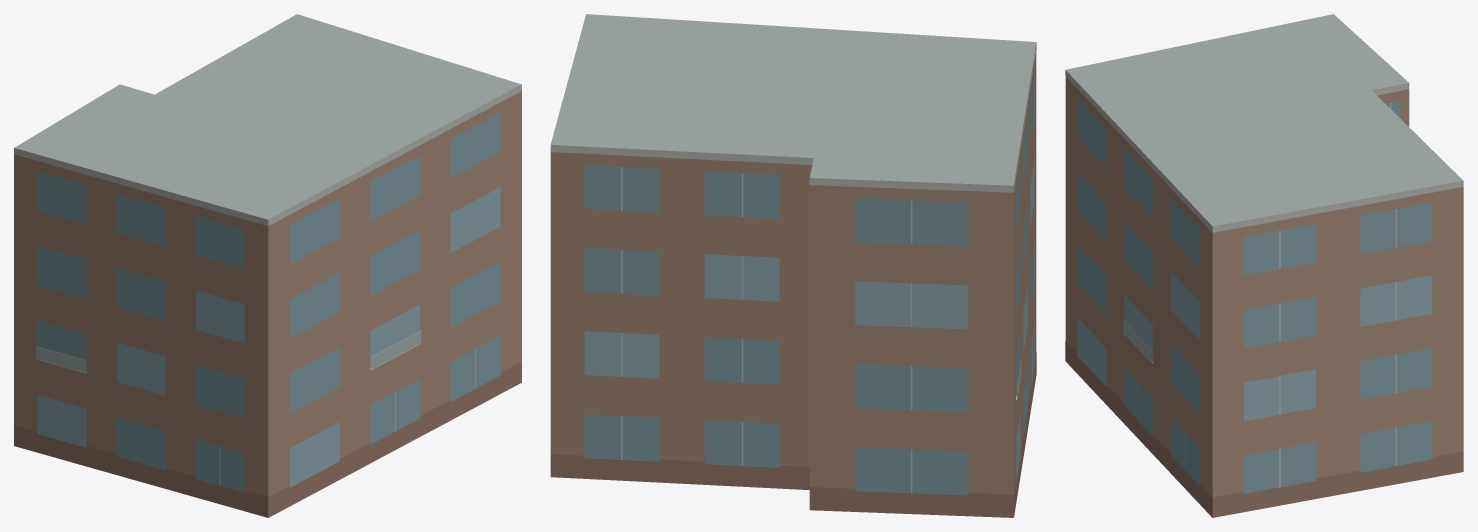
The model's file is survey-upis-32738006.glb.
3 views of the same model, side by side, from view 1: azimuth 30°, elevation 25°; view 2: azimuth 150°, elevation 25°; view 3: azimuth 270°, elevation 25° (orthographic). The views are drawn at different scales.
Parts seen in each view (by area): view 1: survey-upis-32738006.tmp; view 2: survey-upis-32738006.tmp; view 3: survey-upis-32738006.tmp.
Part boxes in pixels (<box>): survey-upis-32738006.tmp: <box>14,14,521,517</box>; survey-upis-32738006.tmp: <box>550,14,1036,517</box>; survey-upis-32738006.tmp: <box>1065,14,1463,517</box>.
Bounding box in the file's own units: 17.85 × 11.4 × 14.13.
